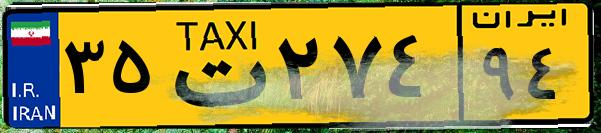2: (270, 28, 330, 110)
3: (57, 26, 110, 100)
4: (385, 28, 445, 110), (525, 38, 570, 115)
5: (110, 28, 158, 98)
7: (330, 28, 385, 110)
9: (475, 38, 525, 113)
ت: (158, 12, 270, 120)
